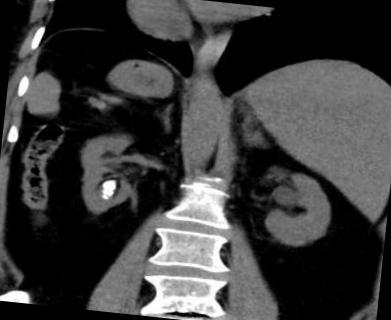Tas_Var: (100, 176, 117, 191), (100, 194, 108, 200), (100, 190, 107, 196), (106, 190, 113, 196)
